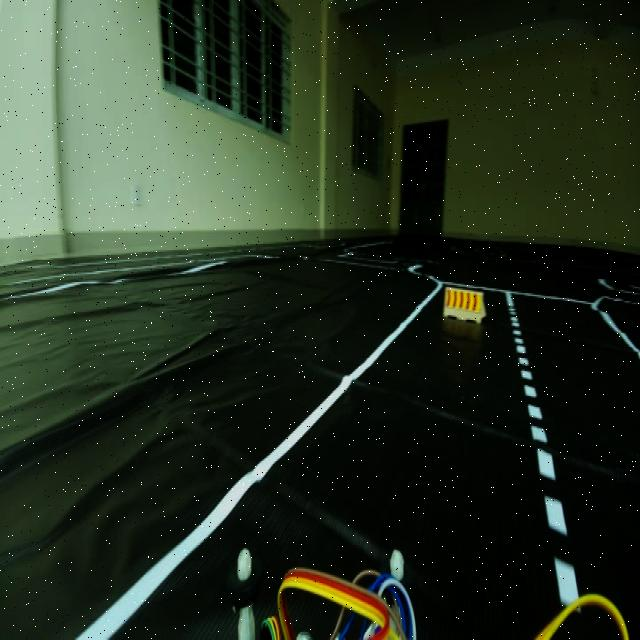roadblock: (434, 280, 490, 322)
